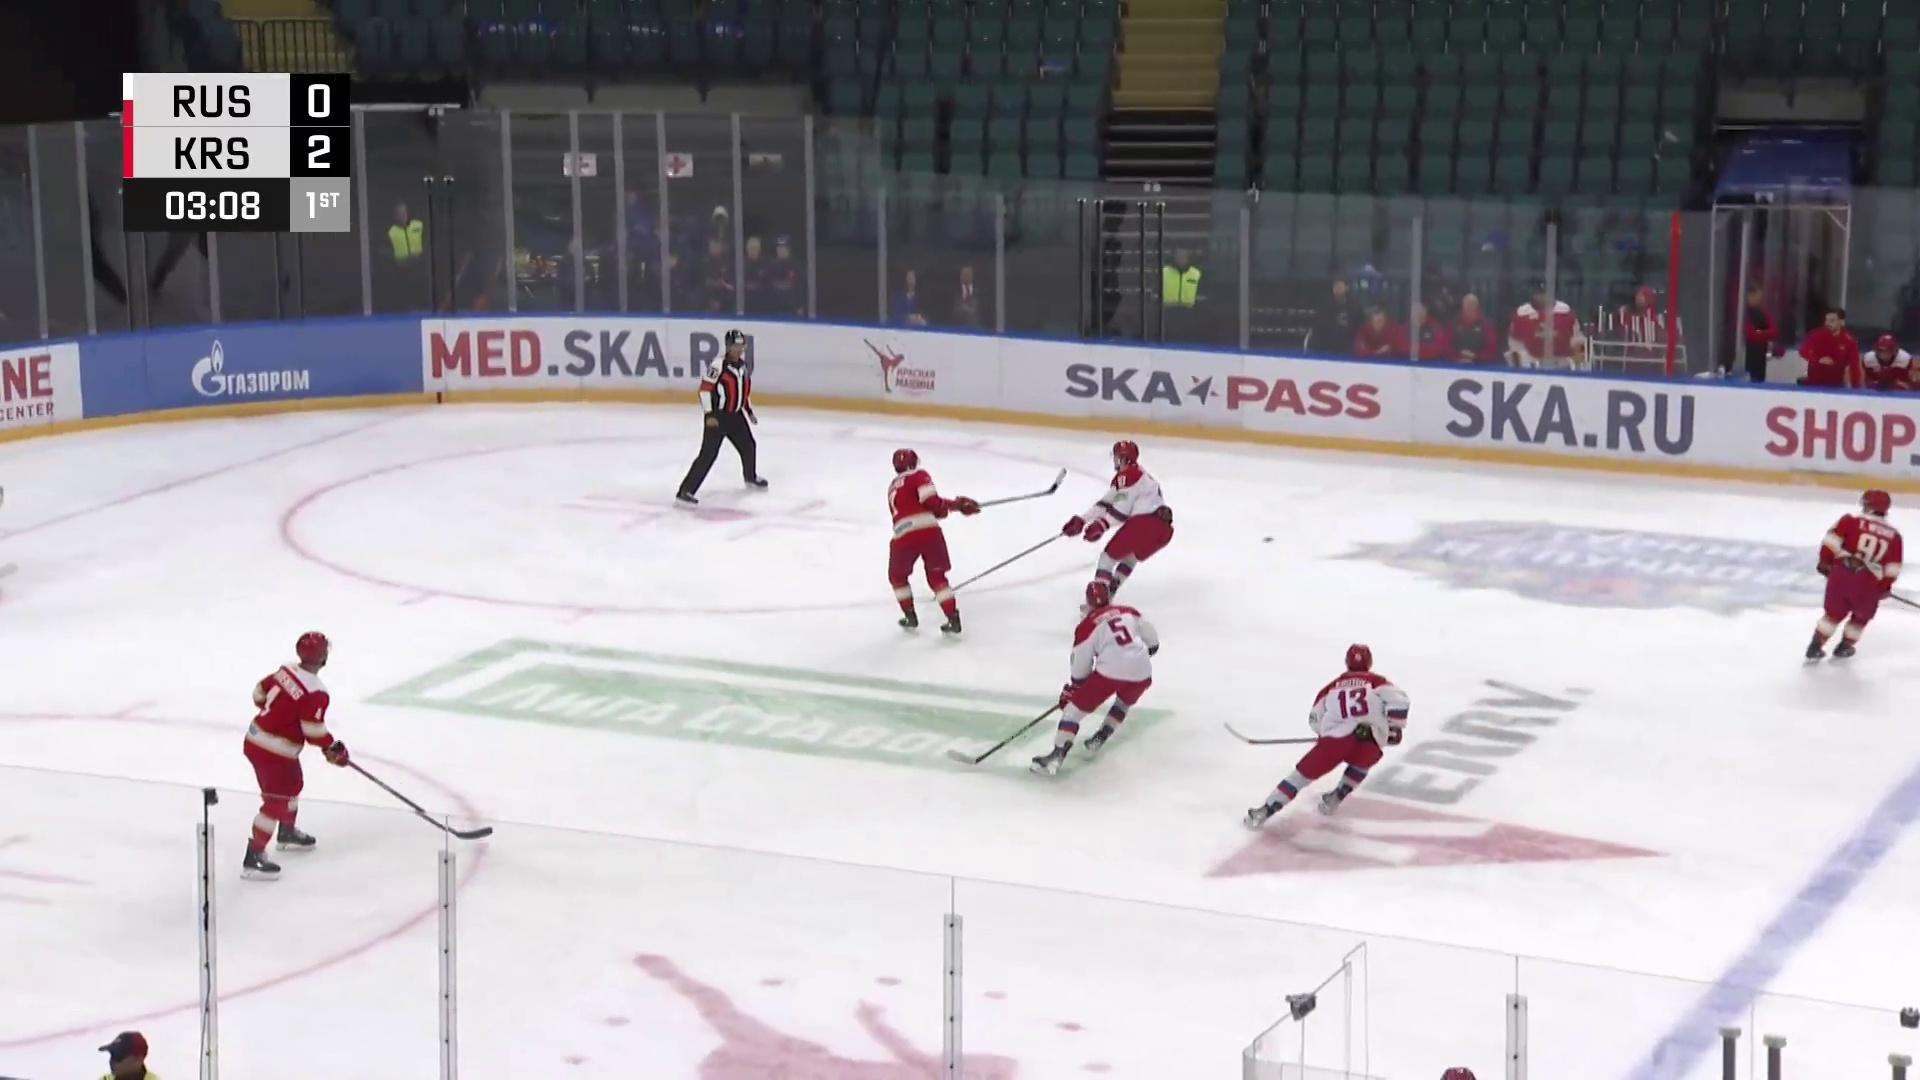ball: (1261, 535, 1276, 546)
